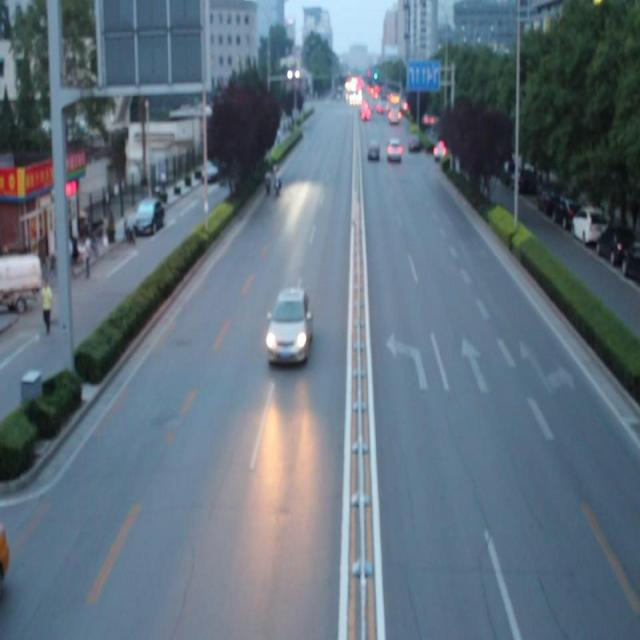car: (262, 287, 313, 364)
